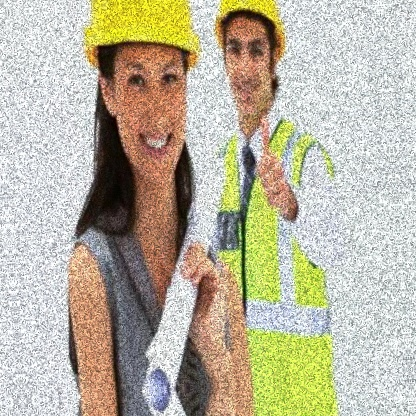vest: (205, 106, 354, 384)
yellow: (80, 0, 206, 75), (210, 0, 294, 60)
